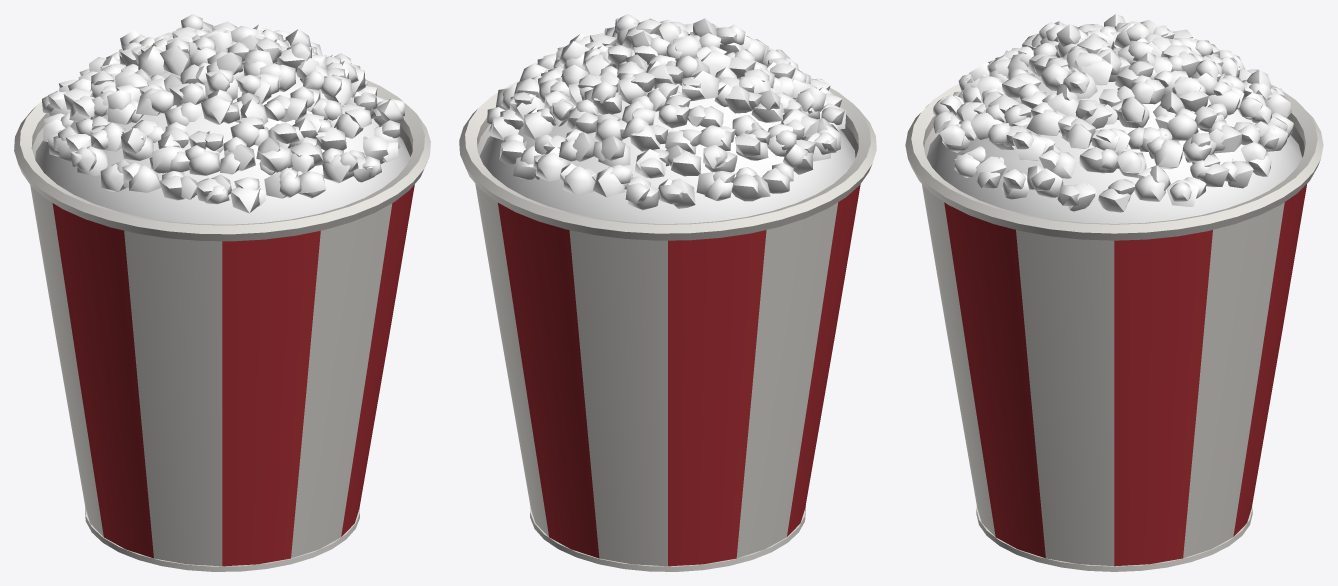
The model's file is food_popcorn.glb.
The picture shows the model from 3 angles, left to right: view 1: azimuth 30°, elevation 25°; view 2: azimuth 150°, elevation 25°; view 3: azimuth 270°, elevation 25°; orthographic projection.
Parts seen in each view (by area): view 1: Fill_LOD0, TubA_LOD0, TubB_LOD0, Rim_LOD0, Base_LOD0; view 2: Fill_LOD0, TubA_LOD0, TubB_LOD0, Rim_LOD0, Base_LOD0; view 3: Fill_LOD0, TubA_LOD0, TubB_LOD0, Rim_LOD0, Base_LOD0.
Boxes of the visible parts, <box> form: Fill_LOD0: <box>35,14,410,224</box>; TubA_LOD0: <box>52,184,414,566</box>; TubB_LOD0: <box>30,185,392,566</box>; Rim_LOD0: <box>14,79,430,241</box>; Base_LOD0: <box>85,506,359,571</box>; Fill_LOD0: <box>479,14,855,223</box>; TubA_LOD0: <box>498,184,860,566</box>; TubB_LOD0: <box>475,184,838,566</box>; Rim_LOD0: <box>459,78,876,240</box>; Base_LOD0: <box>530,505,805,571</box>; Fill_LOD0: <box>926,14,1302,223</box>; TubA_LOD0: <box>944,184,1306,566</box>; TubB_LOD0: <box>922,184,1284,566</box>; Rim_LOD0: <box>905,84,1323,240</box>; Base_LOD0: <box>976,506,1252,571</box>.
Size of the model in its own units: 0.177 by 0.2254 by 0.177.
